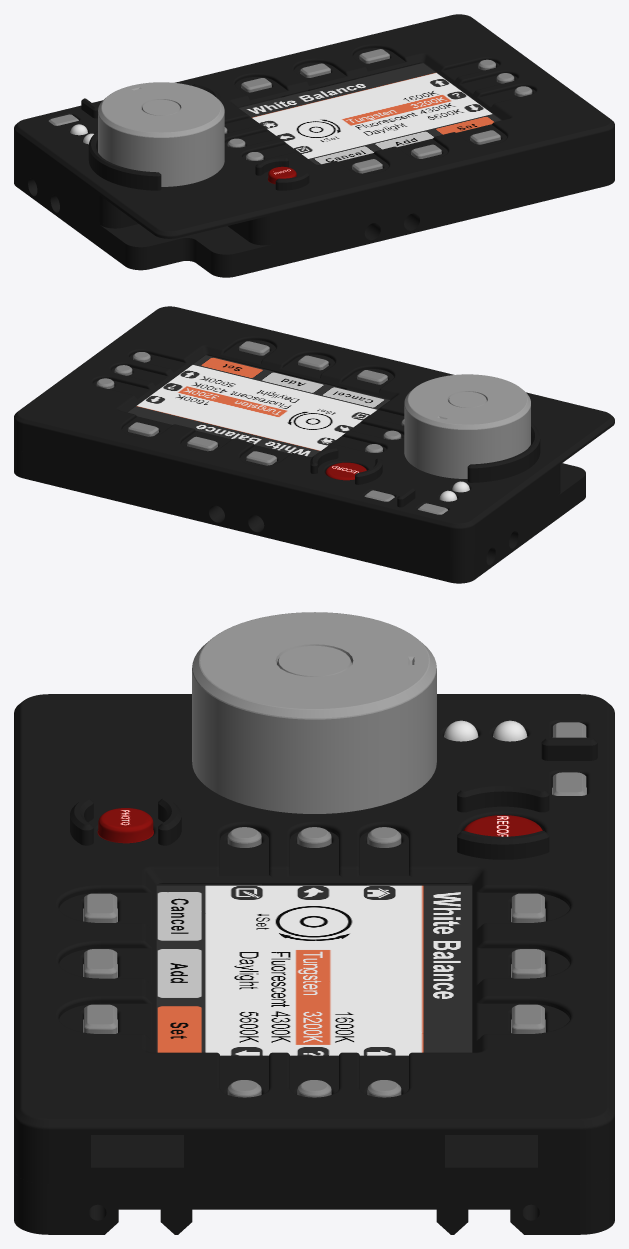
The model's file is axiom_remote.glb.
3 renders of one model, top to bottom at view 1: azimuth 30°, elevation 25°; view 2: azimuth 150°, elevation 25°; view 3: azimuth 270°, elevation 25°, orthographic. The views are drawn at different scales.
Visible parts, largest first — view 1: Enclosure top, Enclosure bottom, LCD, Knob_new, Knob_press; view 2: Enclosure top, Enclosure bottom, LCD, Knob_new, Button_photo_new.001, Knob_press; view 3: Enclosure top, LCD, Knob_new, Enclosure bottom, Knob_press, Button_photo_new, Button_photo_new.001, Button 1, Button 2, Button_4, Button 5, Button 3 (+1 smaller).
Boxes of the visible parts, <box> form: Enclosure top: <box>14,14,614,241</box>; Enclosure bottom: <box>14,62,614,277</box>; LCD: <box>239,63,501,164</box>; Knob_new: <box>98,82,224,186</box>; Knob_press: <box>142,99,180,115</box>; Enclosure top: <box>14,306,614,557</box>; Enclosure bottom: <box>14,354,585,583</box>; LCD: <box>128,355,389,456</box>; Knob_new: <box>404,374,530,478</box>; Button_photo_new.001: <box>325,462,366,480</box>; Knob_press: <box>448,391,486,407</box>; Enclosure top: <box>14,694,614,1184</box>; LCD: <box>156,885,472,1055</box>; Knob_new: <box>192,612,436,813</box>; Enclosure bottom: <box>14,884,614,1234</box>; Knob_press: <box>277,645,351,676</box>; Button_photo_new: <box>97,808,153,843</box>; Button_photo_new.001: <box>463,815,542,836</box>; Button 1: <box>511,893,545,922</box>; Button 2: <box>511,949,545,978</box>; Button_4: <box>83,893,117,922</box>; Button 5: <box>83,949,117,978</box>; Button 3: <box>511,1004,545,1033</box>.
Bounding box in the file's own units: 0.146 × 0.0339 × 0.086.
Materials: 8 (1 with a texture image).
